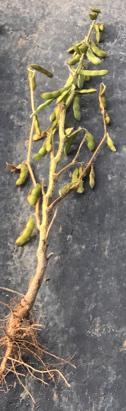soja: (13, 215, 38, 247), (33, 59, 57, 81), (14, 162, 31, 191), (30, 142, 52, 164), (90, 39, 113, 58), (75, 167, 88, 200), (84, 48, 106, 66), (89, 6, 109, 25), (40, 84, 67, 98), (73, 67, 115, 76), (30, 182, 43, 209), (106, 132, 121, 155), (72, 97, 85, 123), (30, 116, 45, 138), (84, 131, 98, 154), (63, 39, 87, 52), (97, 95, 113, 113), (94, 23, 107, 44), (63, 51, 83, 64), (74, 88, 102, 97), (90, 164, 99, 192), (31, 69, 41, 92), (66, 131, 74, 157), (45, 128, 53, 153), (56, 91, 69, 105), (31, 133, 47, 144), (103, 113, 114, 126), (72, 166, 80, 183), (75, 76, 86, 87), (50, 113, 60, 121)
